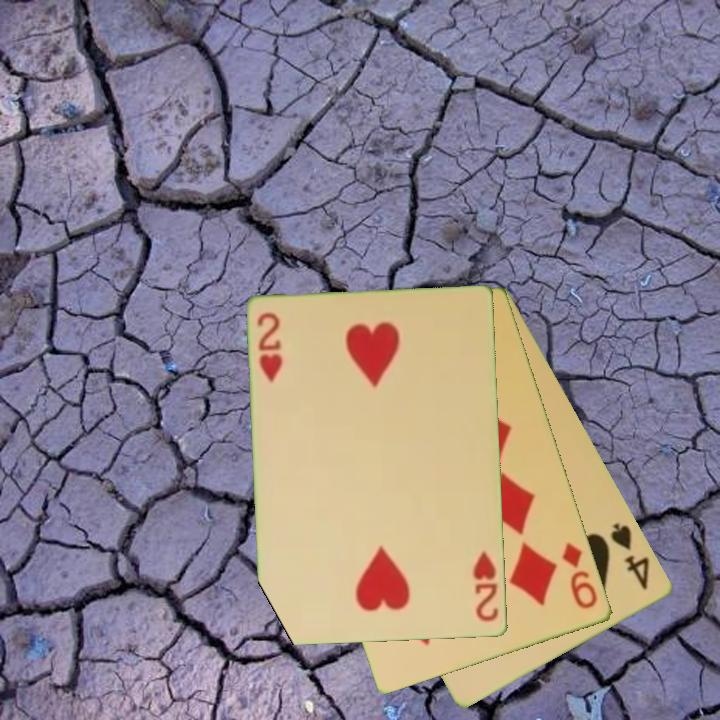2h: (470, 548, 502, 625), (254, 310, 286, 386)
4s: (607, 519, 653, 593)
9d: (559, 539, 601, 612)
